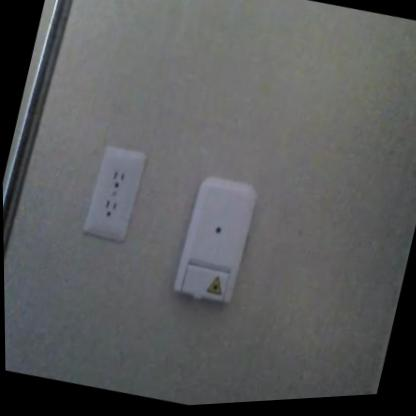OUTLET: (80, 140, 149, 247)
